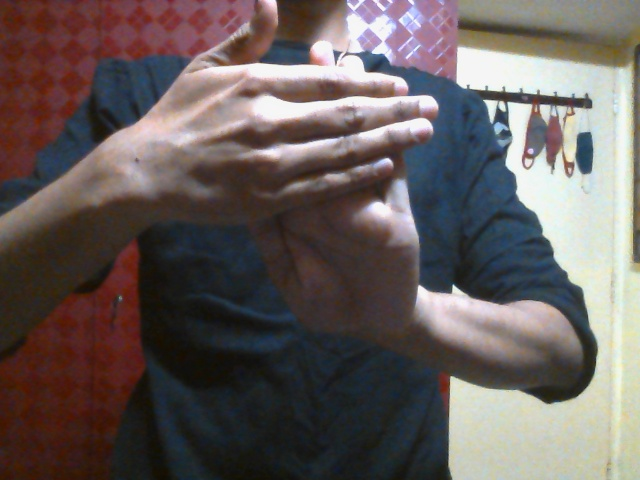H: (162, 2, 419, 349)
